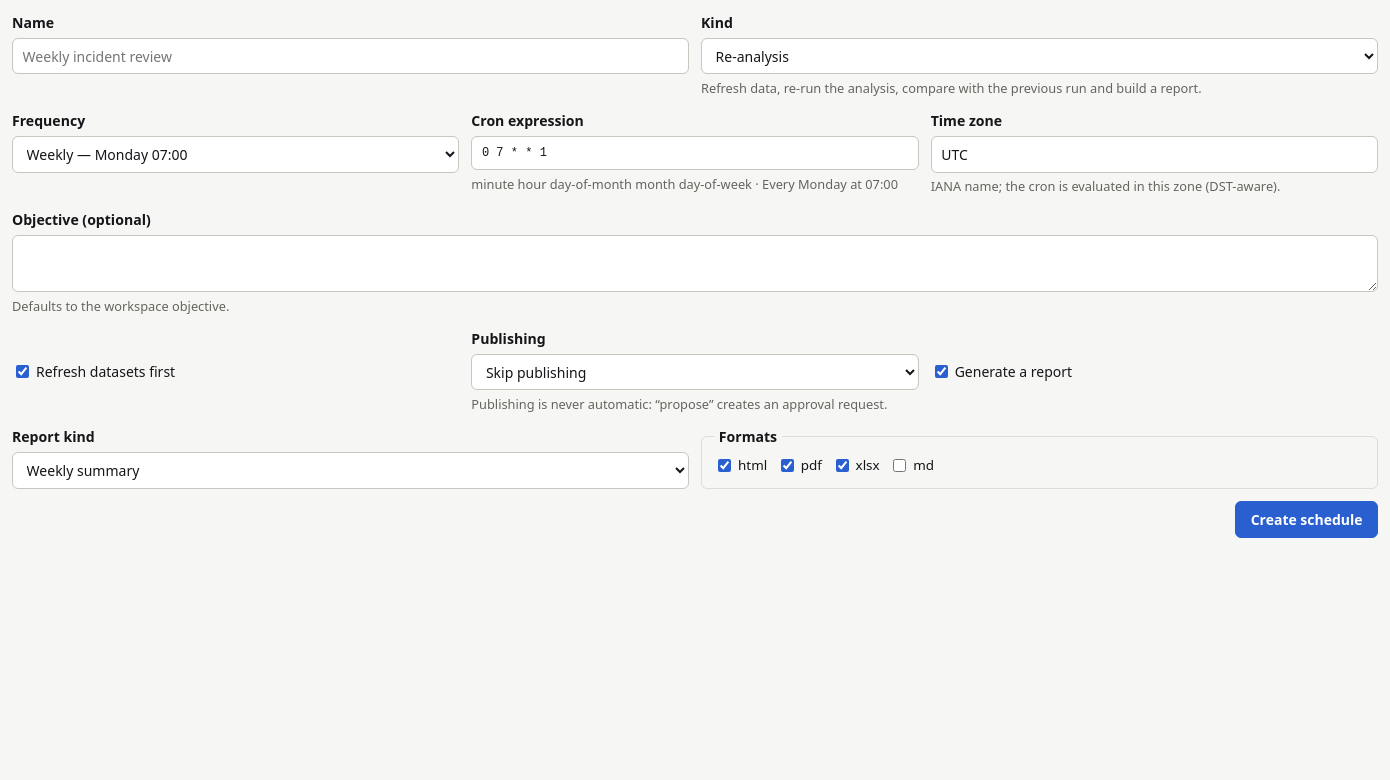
ScheduleForm › shows kind-specific fields for report schedules
Select "Report" in the dropdown labelled "Kind" at point(1040, 56), box x1=701 y1=38 x2=1378 y2=74
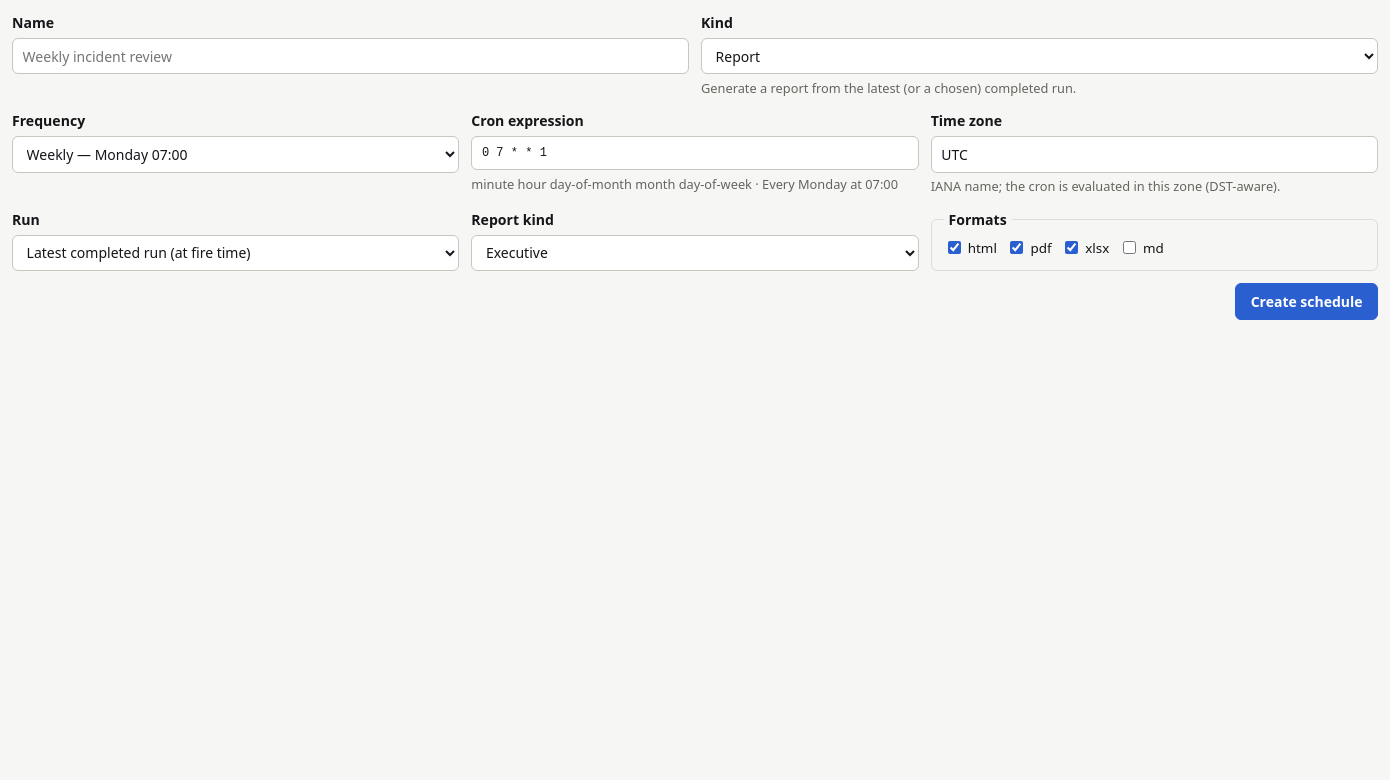
Now the dropdown labelled "Report kind" shows "Executive", box x1=471 y1=235 x2=919 y2=271
Now the label labelled "Objective" is gone
